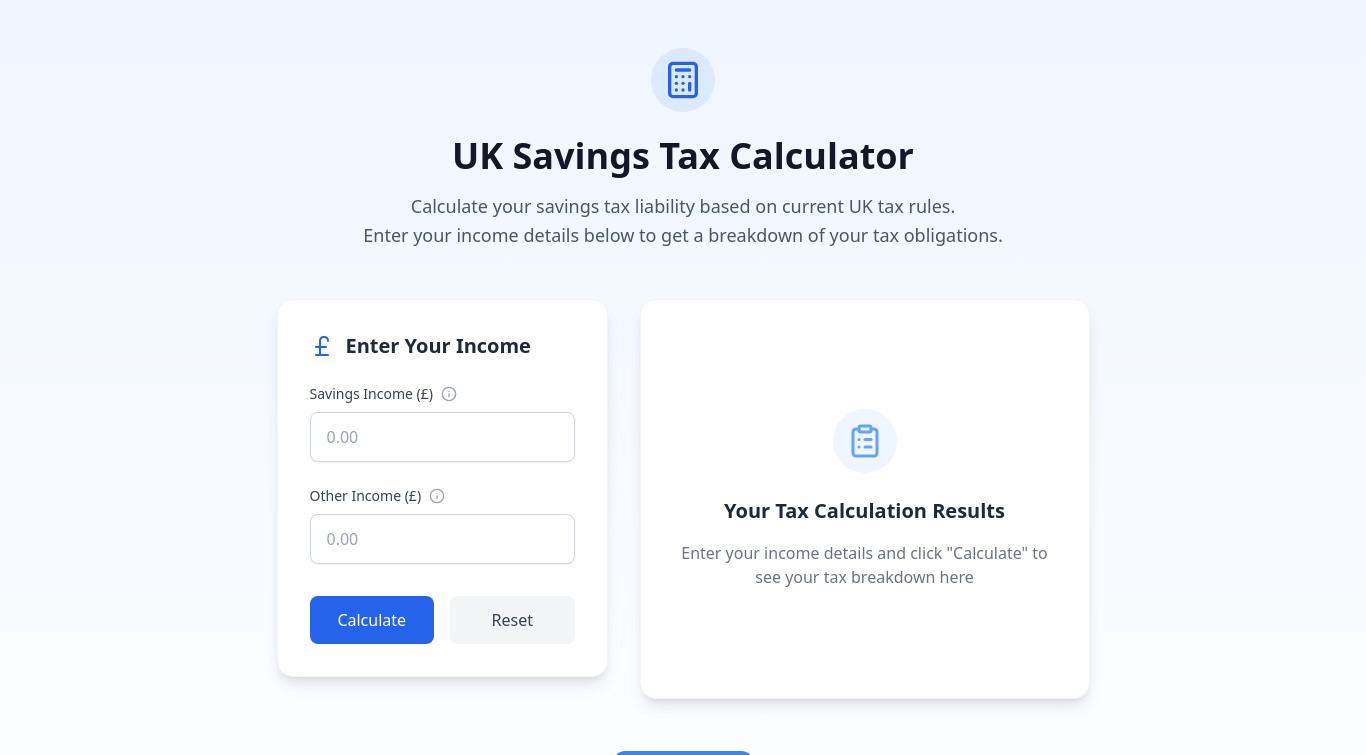
Scenario: calculate the pounds the person submitted › shows the savings interest error and leaves the existing tax due when savings interest is negative
In the field with placeholder "0.00" below "Savings Income (£)": (442,436) [310,412,574,462], type "1001.90"
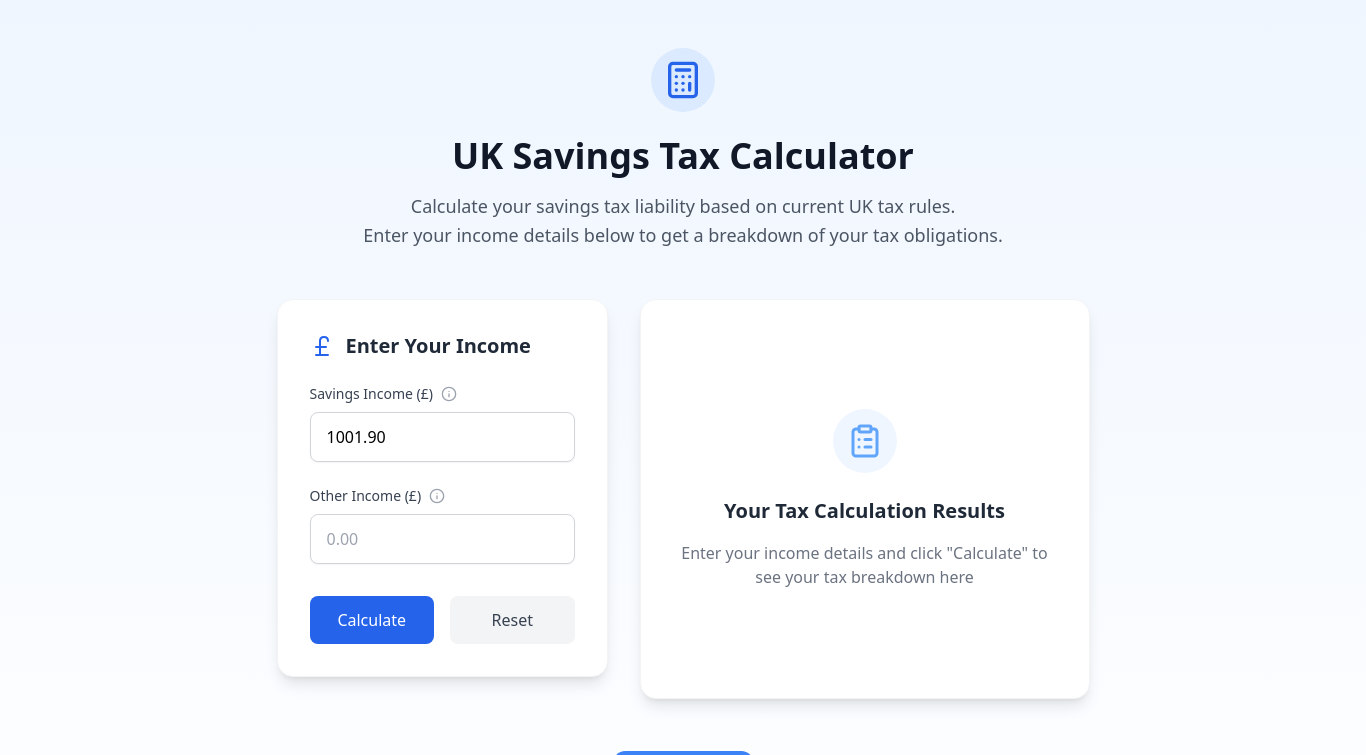
In the field with placeholder "0.00": (442,538) [310,514,574,564], type "20000.40"
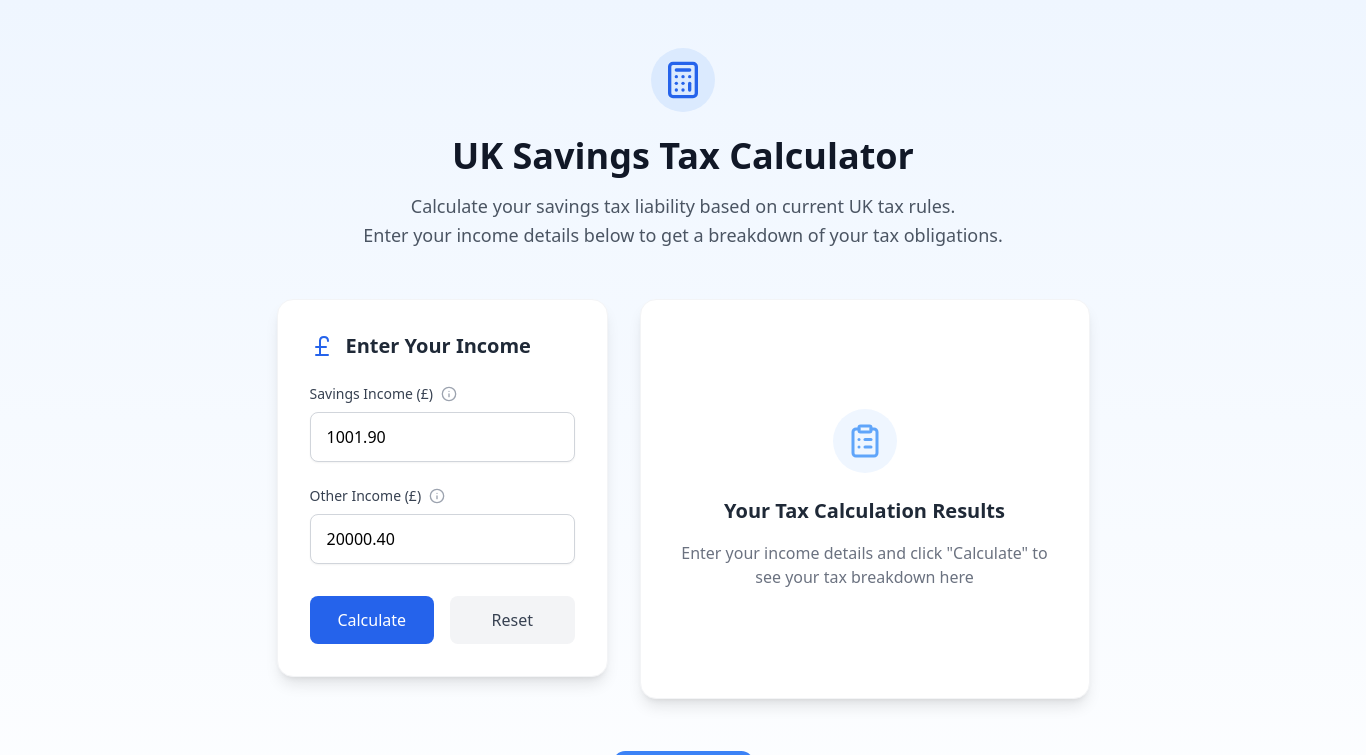
Click the button "Calculate": (372,620) [310,596,434,644]
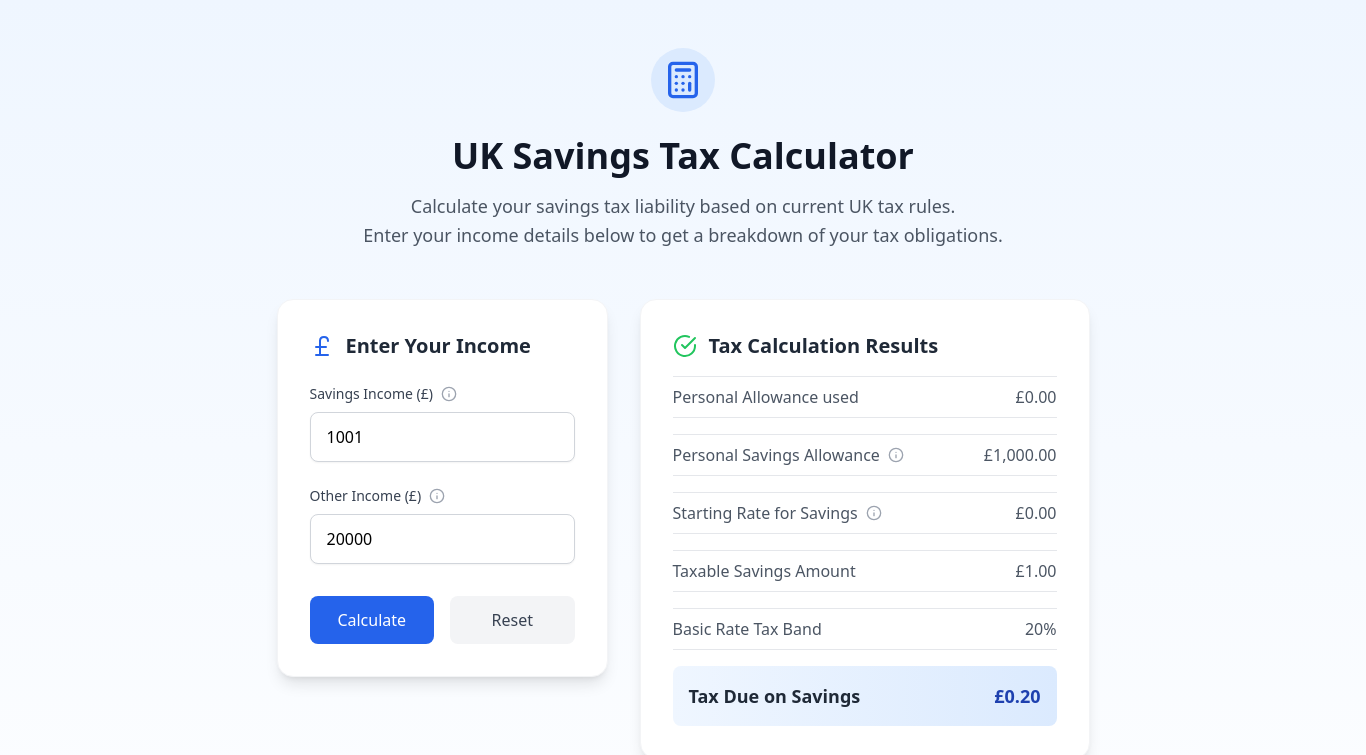
Replace the text in the field below "Savings Income (£)" with "-0.40": (442,436) [310,412,574,462]
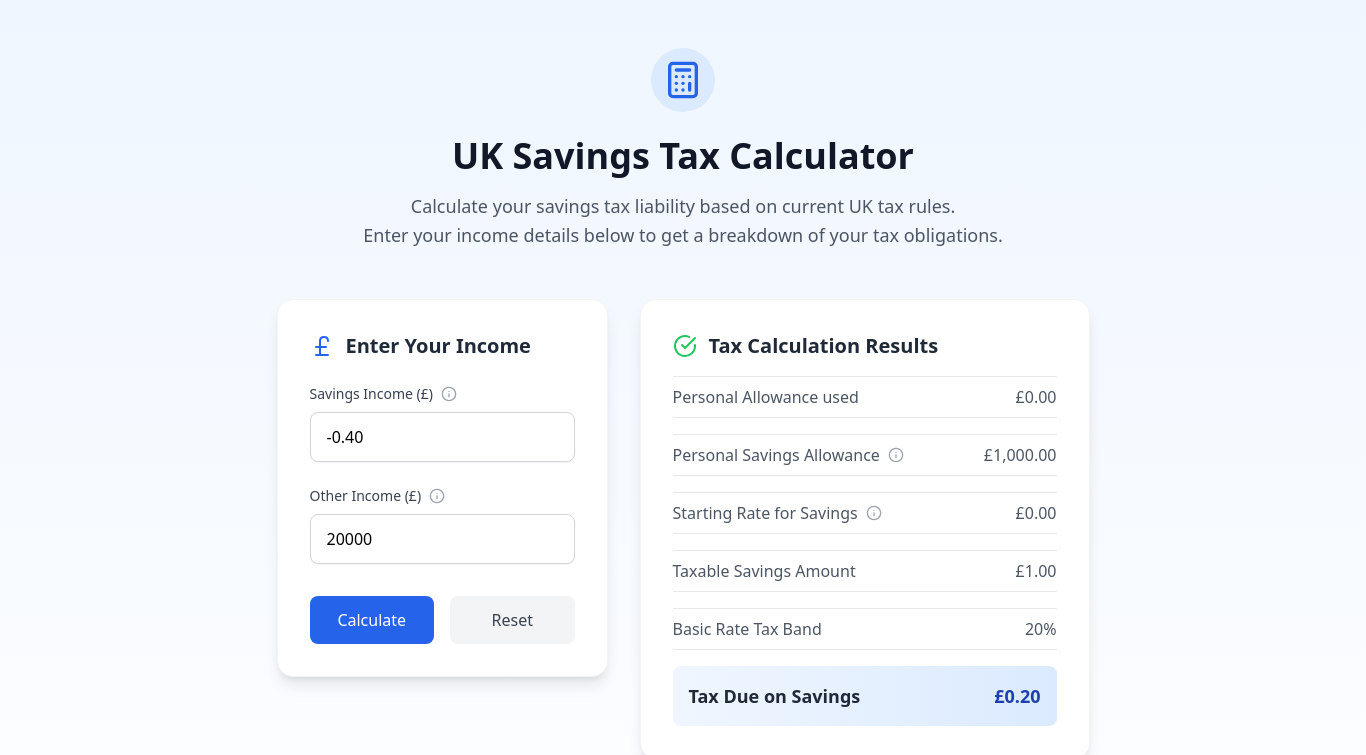
Click the button "Calculate": (372,620) [310,596,434,644]
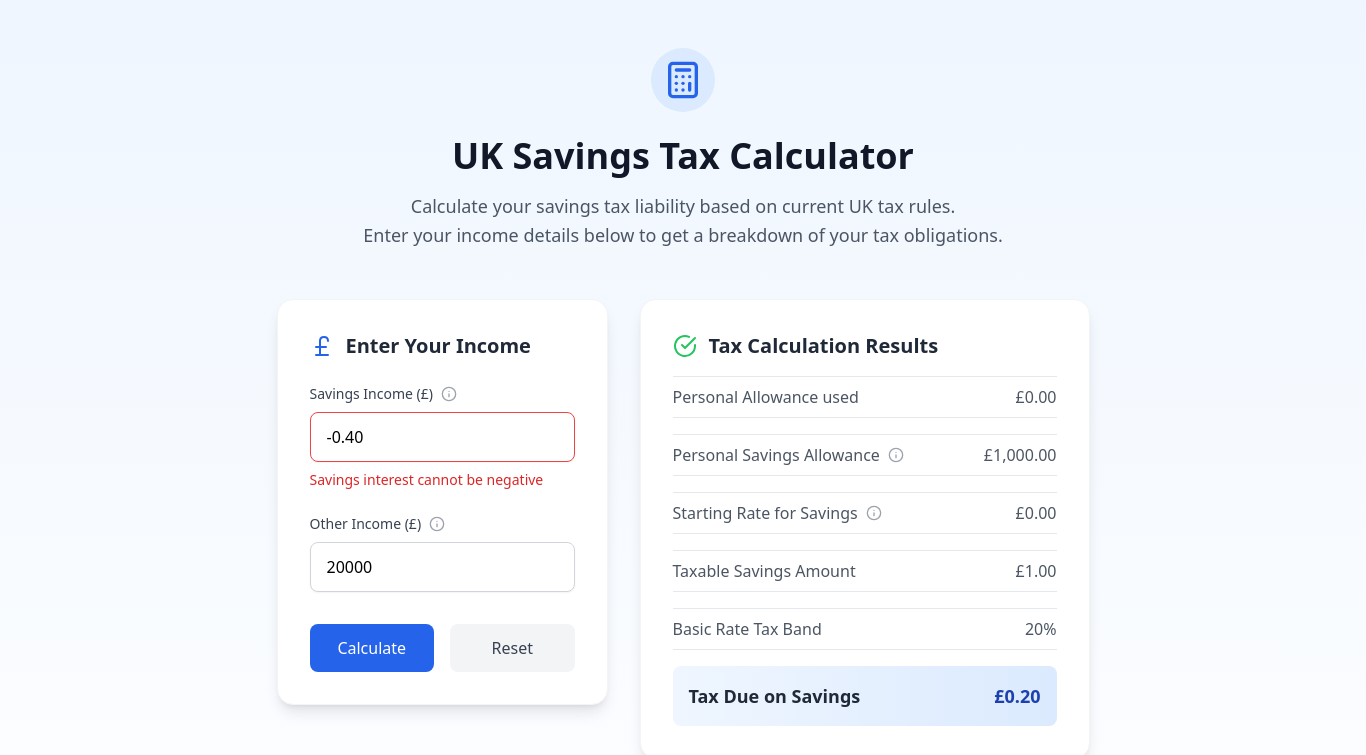
Result: the text "Savings interest cannot be negative" is shown at [310,470,574,490]
